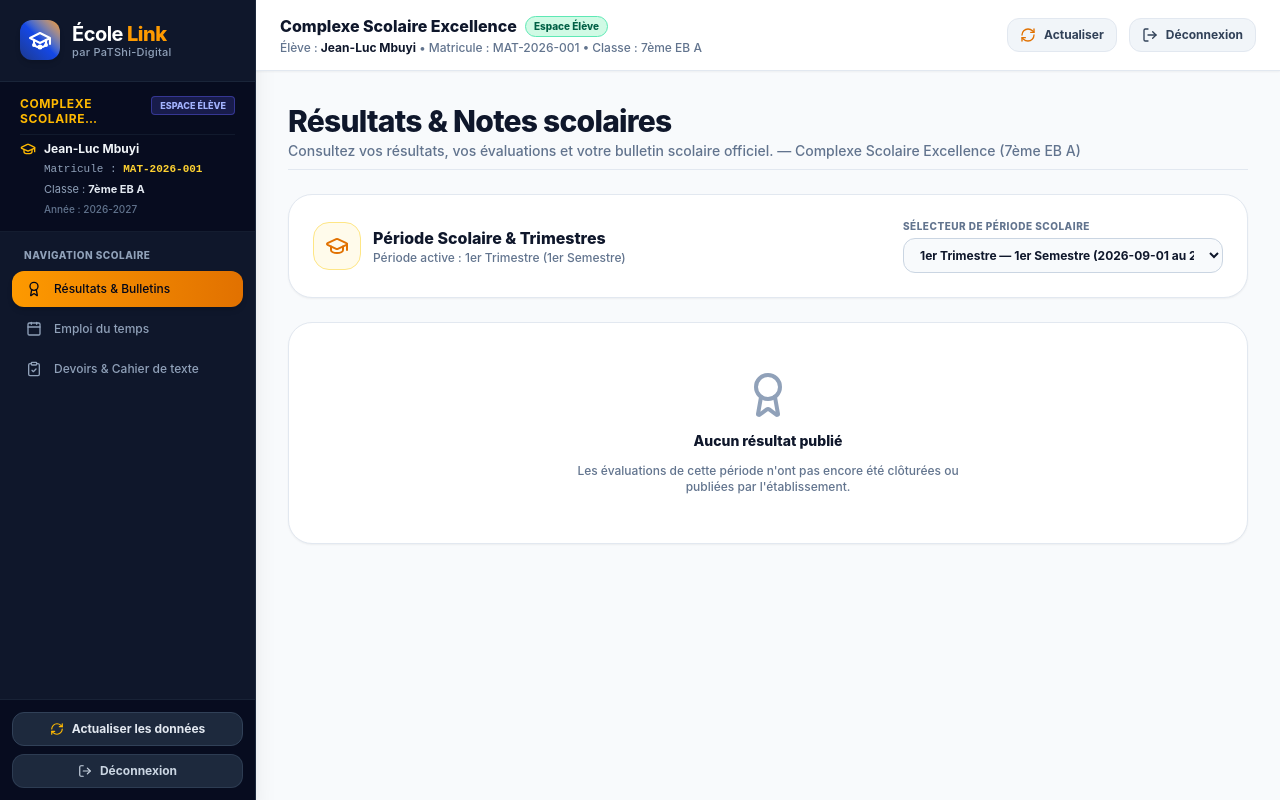
it: StudentTimetable Frontend Suite — Lot 2K-T6-F › 3. Rendu Desktop de la grille hebdomadaire avec ordre des jours, des heures, et pauses distinctes
This screenshot has width=1280, height=800.
Expected: the text "Résultats & Bulletins" is shown, [54,280,170,296]
Click the button "Emploi du temps" at (128, 328), box [12,310,243,346]
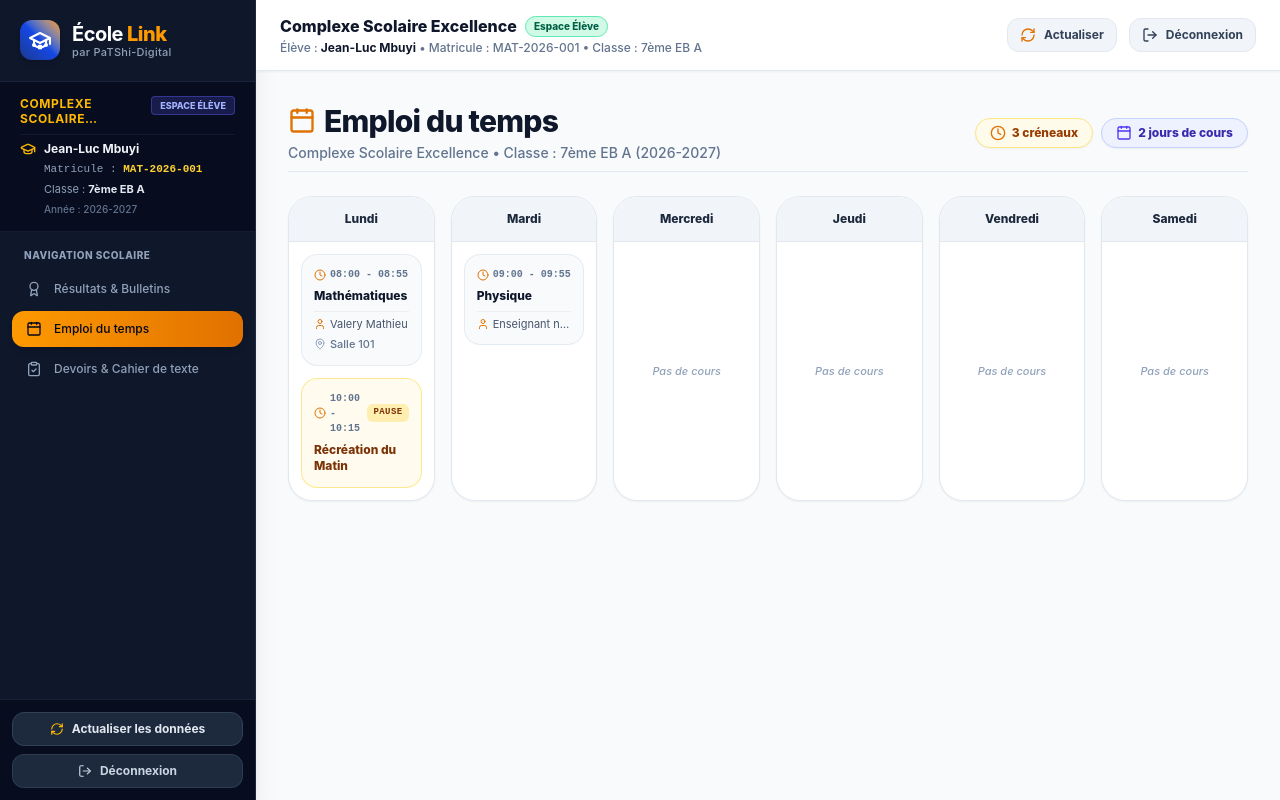
Expected: the text "Mathématiques" is shown, [314,288,409,304]
Expected: the text "Physique" is shown, [477,288,532,303]
Expected: the text "Récréation du Matin" is shown, [314,442,409,474]
